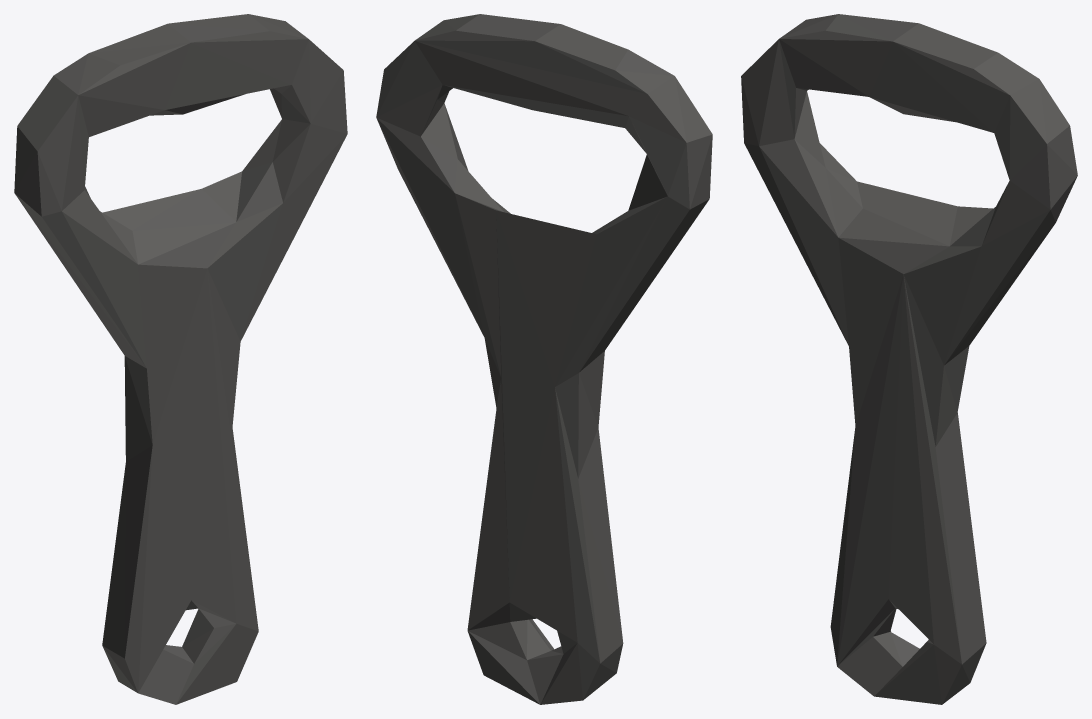
File: BottleOpener.fbx
3 renders of one model, left to right at view 1: azimuth 30°, elevation 25°; view 2: azimuth 150°, elevation 25°; view 3: azimuth 330°, elevation 25°, orthographic.
Parts seen in each view (by area): view 1: BottleOpenerLowPoly; view 2: BottleOpenerLowPoly; view 3: BottleOpenerLowPoly.
Part boxes in pixels (<box>): BottleOpenerLowPoly: <box>14,14,347,704</box>; BottleOpenerLowPoly: <box>376,14,712,704</box>; BottleOpenerLowPoly: <box>741,14,1077,704</box>.
Bounding box in the file's own units: 4.95 × 10 × 0.8356.
